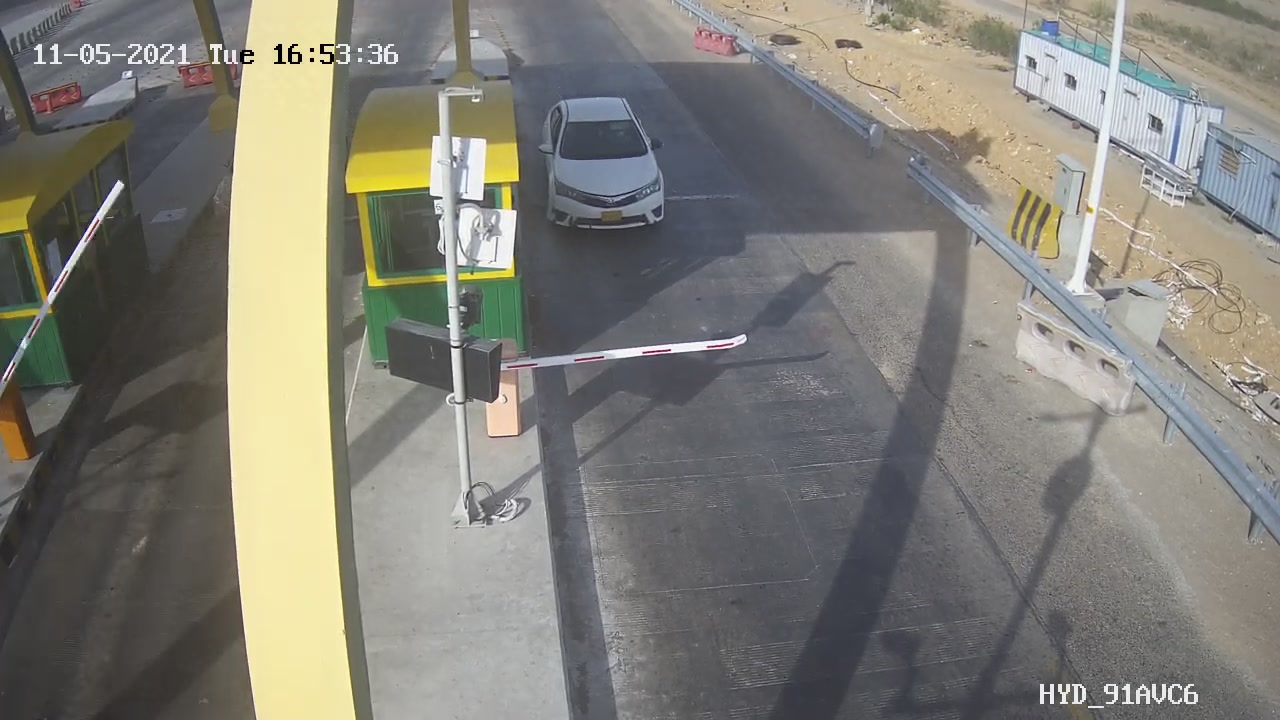F1: (526, 81, 695, 252)
